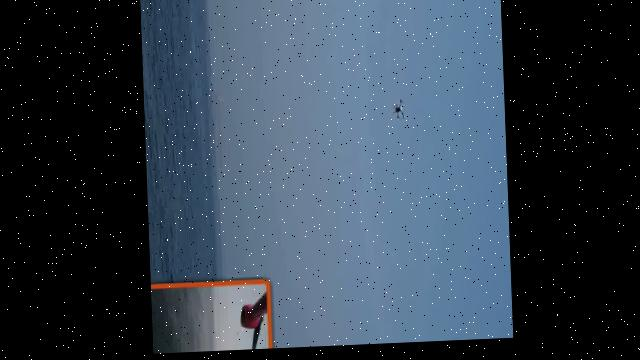drone: (384, 94, 413, 133)
